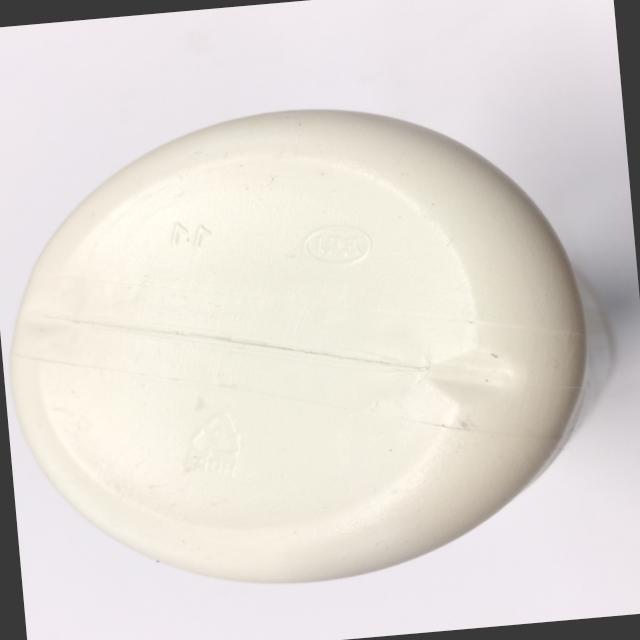Plastic: (0, 79, 633, 612)
